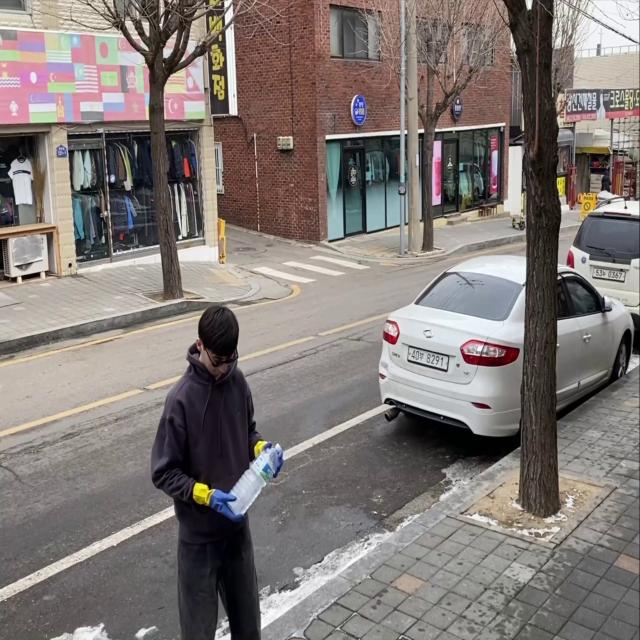gloved_hand: (210, 485, 250, 529), (260, 438, 287, 483)
